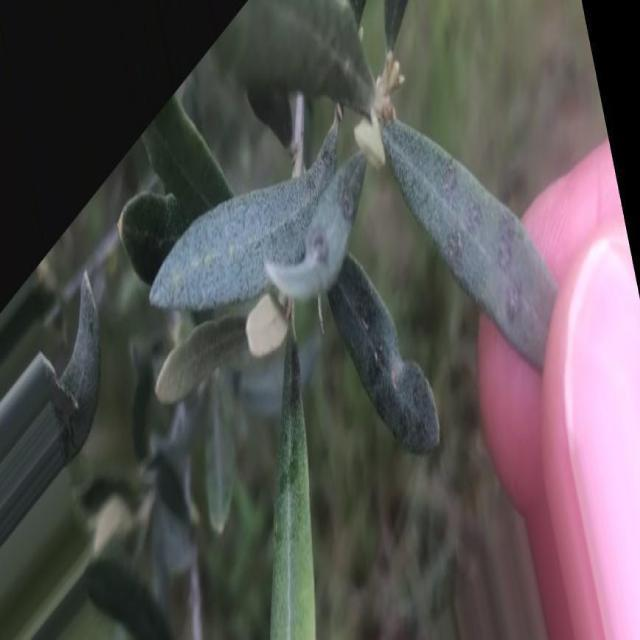OlivePeacockSpot: (383, 118, 556, 370), (328, 255, 440, 454), (266, 150, 366, 300), (270, 336, 316, 638)
